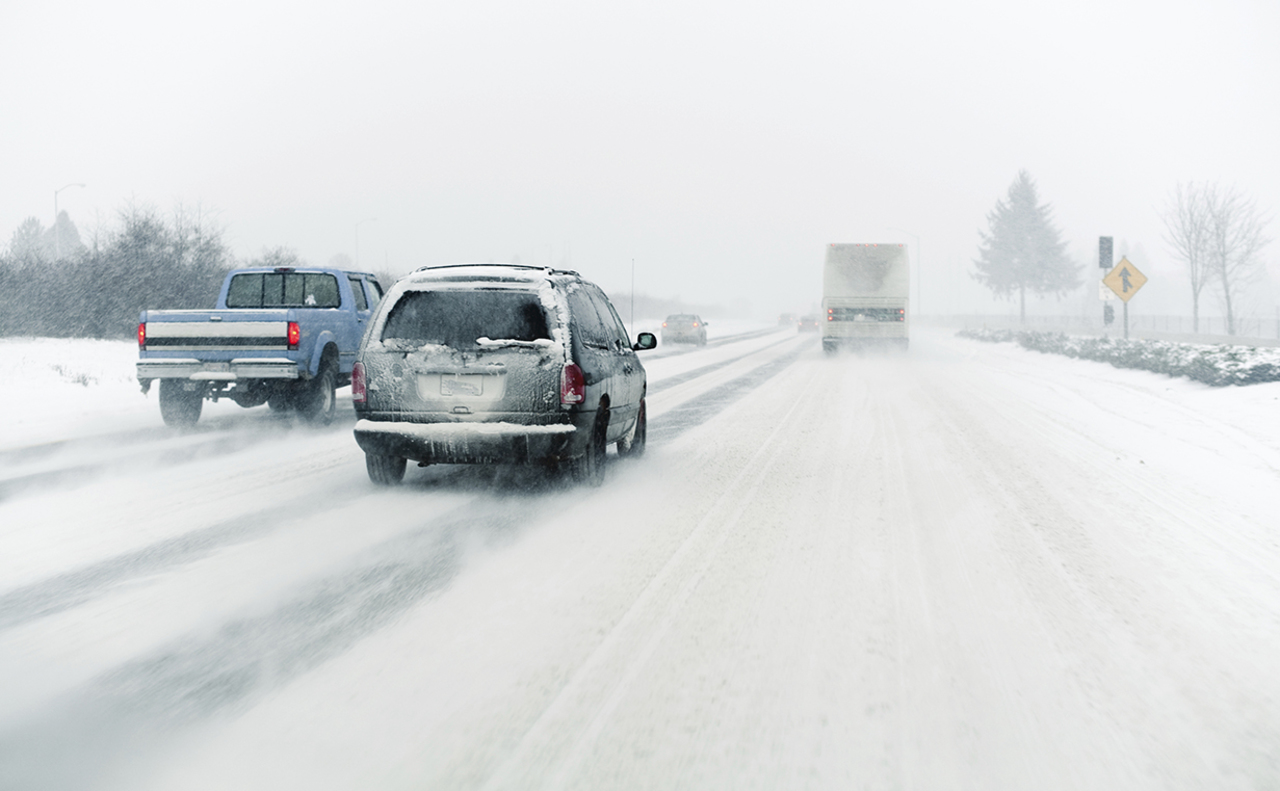car: (349, 263, 658, 491), (662, 310, 706, 341), (796, 316, 820, 335), (775, 314, 793, 327)
truck: (136, 265, 389, 426), (823, 233, 913, 362)
